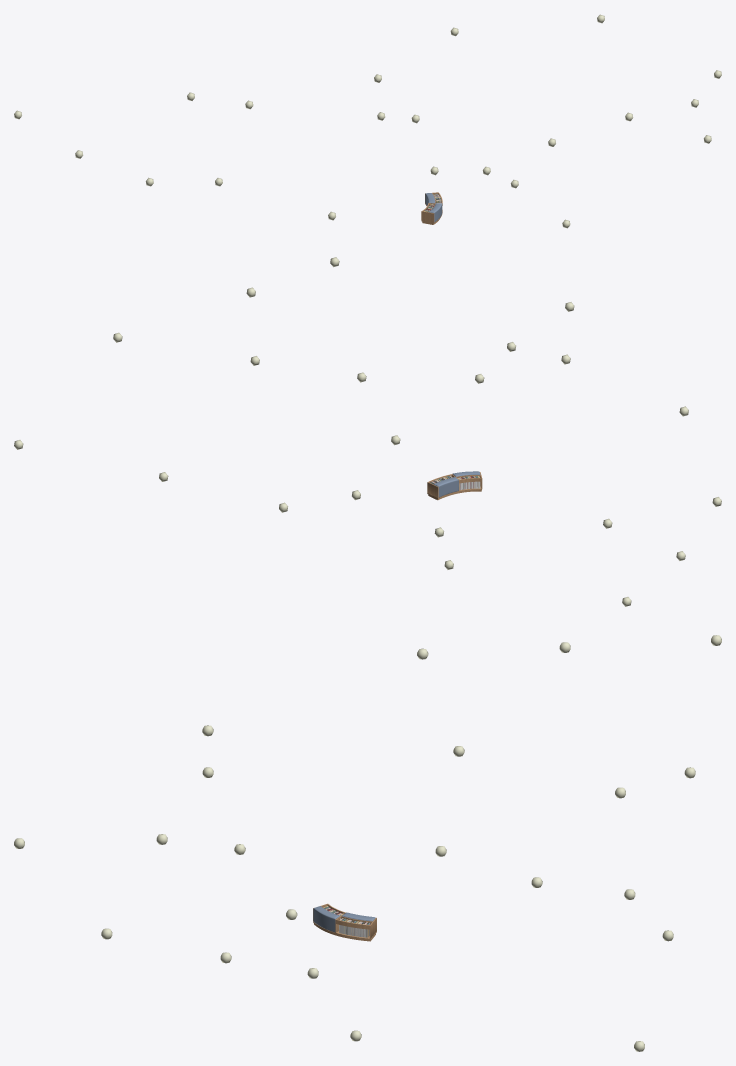
Rendered from 园书凳.fbx.
3 renders of one model, top to bottom at view 1: azimuth 30°, elevation 25°; view 2: azimuth 150°, elevation 25°; view 3: azimuth 270°, elevation 25°, orthographic. The views are drawn at different scales.
Visible parts, largest first — view 1: Mesh22; view 2: Mesh22; view 3: Mesh22.
Part boxes in pixels (box(x1,y1,x2,y2)): Mesh22: box(421, 192, 442, 224); Mesh22: box(427, 471, 482, 500); Mesh22: box(313, 903, 376, 941).
Bounding box in the file's own units: 861 × 135 × 654.
